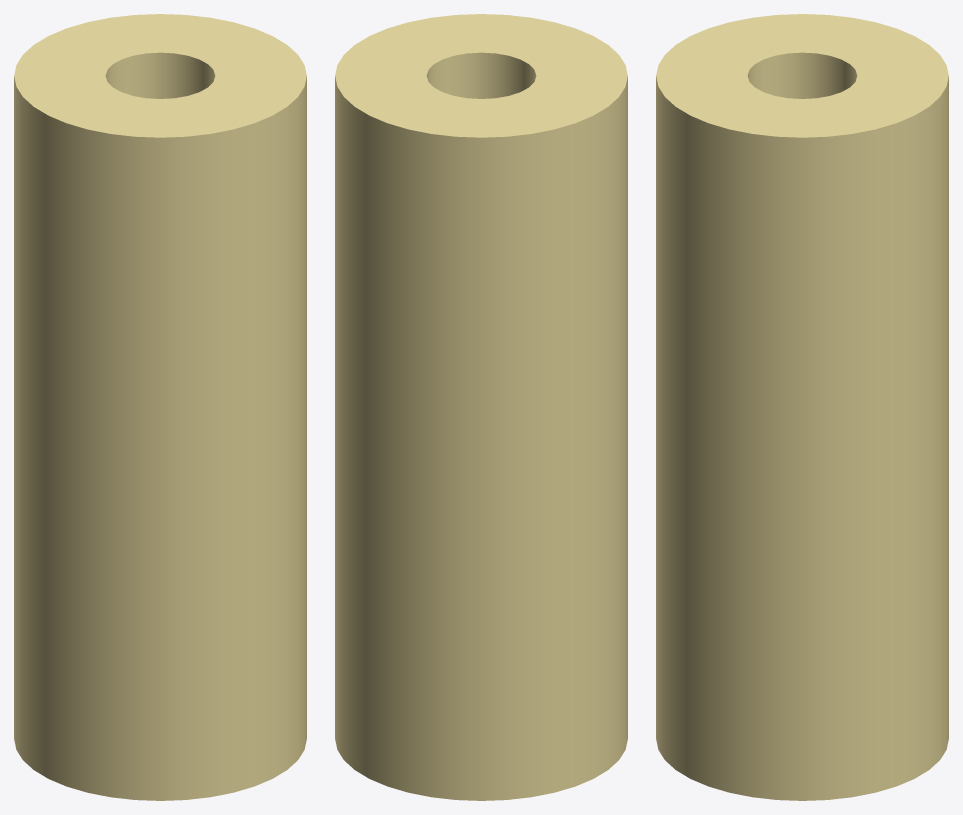
Rendered from 레이저 모듈.obj.
3 views of the same model, side by side, from view 1: azimuth 30°, elevation 25°; view 2: azimuth 150°, elevation 25°; view 3: azimuth 270°, elevation 25° (orthographic).
Parts seen in each view (by area): view 1: 본체1; view 2: 본체1; view 3: 본체1.
Part boxes in pixels (bbox=[...]): 본체1: bbox=[14, 14, 306, 800]; 본체1: bbox=[335, 14, 627, 800]; 본체1: bbox=[656, 14, 948, 800].
Bounding box in the file's own units: 8 × 20 × 8.
